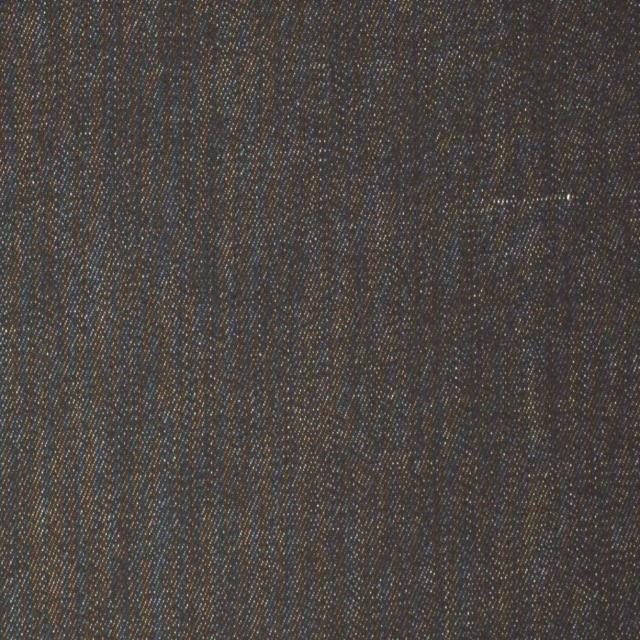Warp_Weft: (493, 191, 575, 209)
